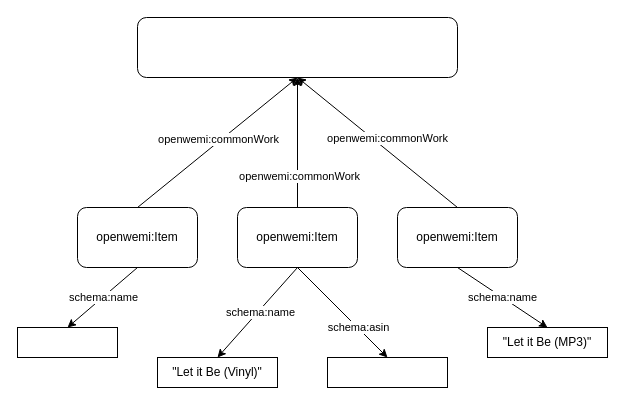
Some shapes in this 625 by 405 pixel diagram are drawn without their labels. The shapes that lost their labels are listed below. From the top down, each one's centre as x and y in pixels, then its label:
point (297, 47): musicbrainz:ef5b9074-84d2-3e46-81ba-cdbe57898033
point (67, 342): "Let it Be (CD)"
point (387, 372): B097CKL5BT
